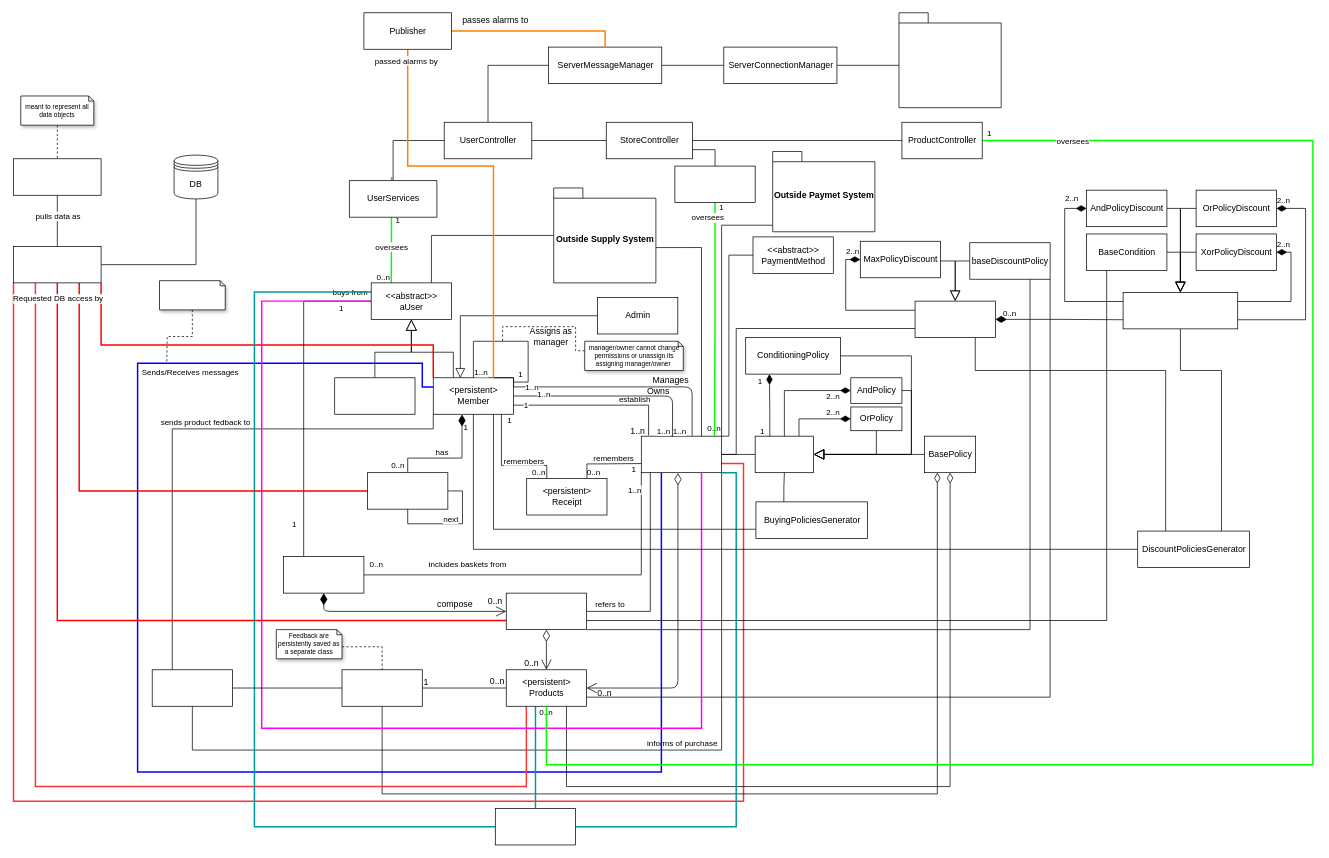
Image size: 1329x858. Some labels were removed from this diagram. The centre of each missing label's shape, as x and y in pixels:
"<<abstract>> <persistent> iPolicyDiscount" belongs at [954,319].
"<<abstract>> ConditioningPolicyDiscount" belongs at [1180,310].
"<<abstract>> iPolicy" belongs at [784,454].
"<persistent> aPermission" belongs at [407,490].
"<persistent> ProductInfo" belongs at [381,687].
"<persistent> ShoppingBasket" belongs at [546,611].
"<persistent> Store" belongs at [681,454].
"Client Web System" belongs at [949,60].
"DataAccess" belongs at [57,264].
"DataObject" belongs at [57,176].
"FeedbackSystem" belongs at [192,687].
"Guest" belongs at [374,395].
"Messages are passed as a class that's persistent" belongs at [193,296].
"OfferRequest" belongs at [535,826].
"ShoppingCart" belongs at [323,574].
"Stores" belongs at [714,184].
